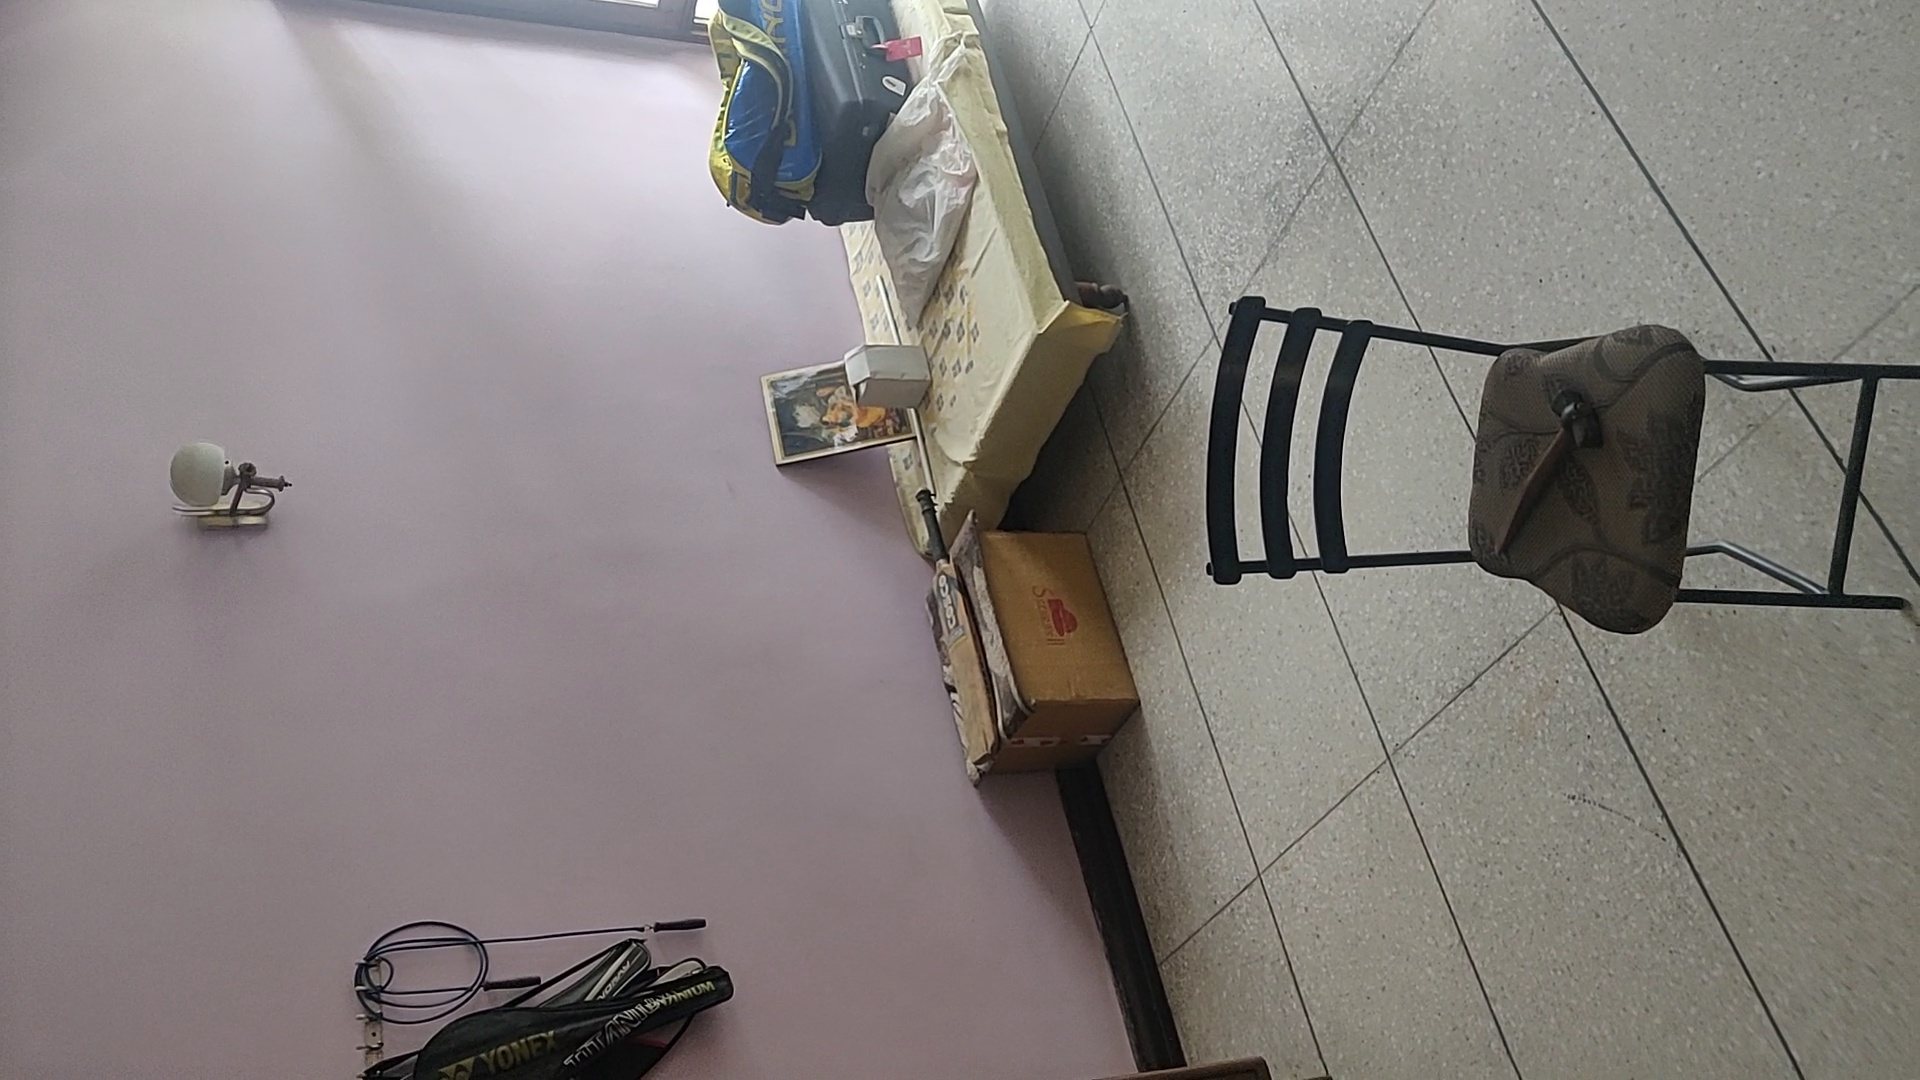hammer: (1487, 386, 1604, 554)
